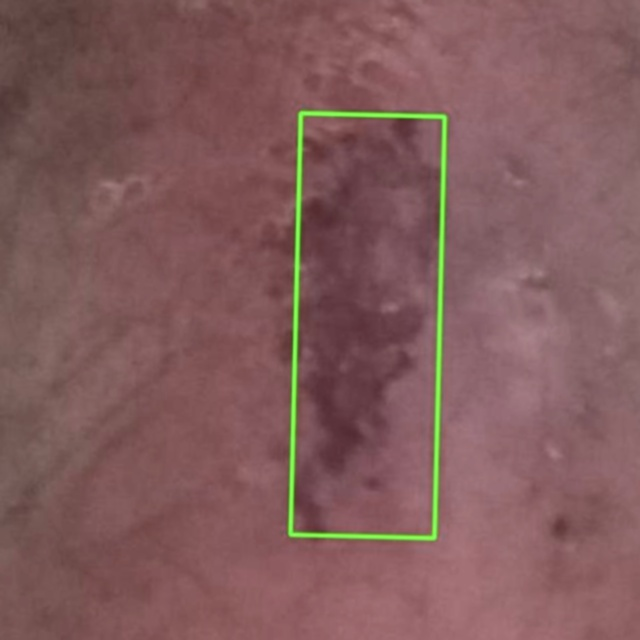Eczema: (290, 113, 444, 538)
